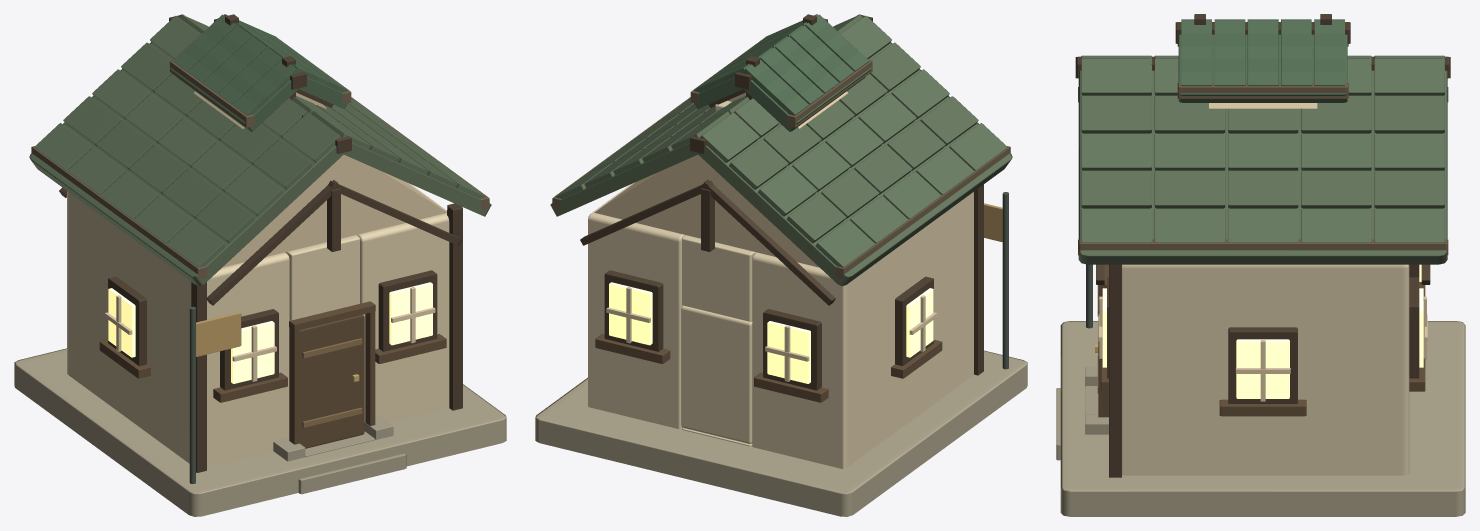
The model's file is hall-0.glb.
3 views of the same model, side by side, from view 1: azimuth 30°, elevation 25°; view 2: azimuth 150°, elevation 25°; view 3: azimuth 270°, elevation 25° (orthographic). The views are drawn at different scales.
Visible parts, largest first — view 1: hall-0-0, door-hinge; view 2: hall-0-0; view 3: hall-0-0.
Part boxes in pixels (box(x1,y1,x2,y2)): hall-0-0: box(14, 14, 506, 516); door-hinge: box(299, 314, 364, 448); hall-0-0: box(535, 14, 1027, 516); hall-0-0: box(1056, 14, 1465, 516).
Bounding box in the file's own units: 2.8 × 3.17 × 2.83.
